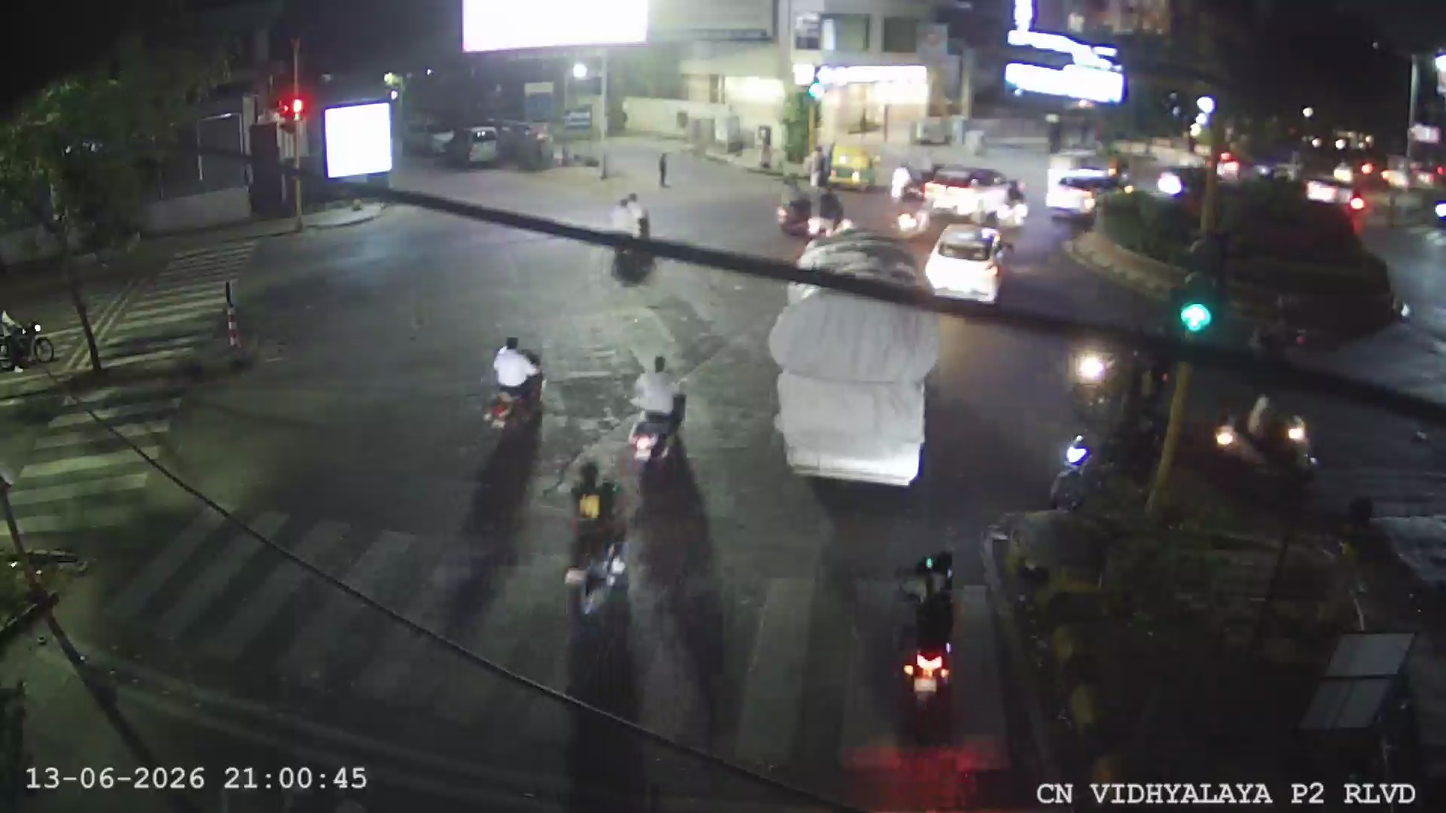auto_rickshaw: (827, 142, 877, 190)
car: (908, 159, 1031, 228), (922, 221, 1011, 305), (1043, 151, 1135, 218), (772, 186, 850, 240)
truck: (759, 268, 950, 492)
two_wheeler: (886, 541, 966, 735), (1209, 384, 1323, 489), (477, 325, 550, 444), (623, 348, 693, 468), (1060, 332, 1135, 423)
